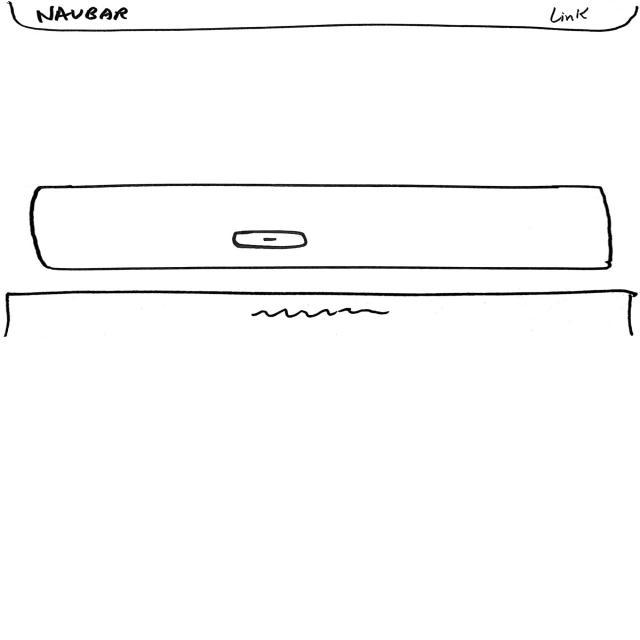container: (29, 183, 616, 272), (8, 0, 640, 33)
icon-button: (230, 230, 308, 250)
label: (35, 6, 130, 26), (548, 5, 591, 23)
text: (250, 304, 391, 318)
